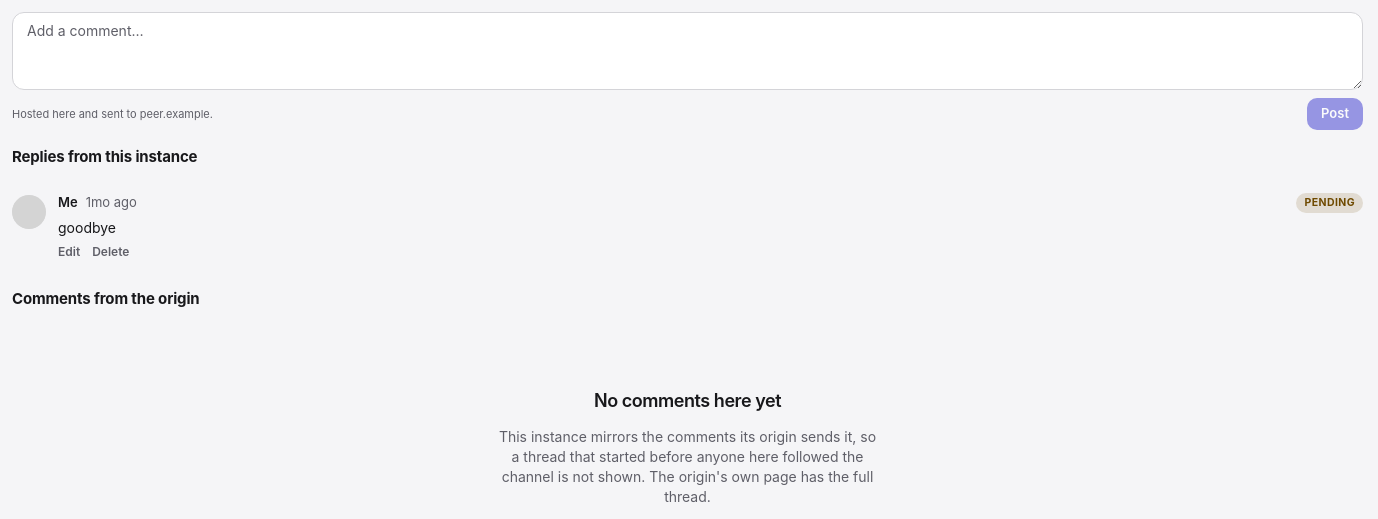
Test: RemoteVideoComments — edit & delete › lets the author delete their own authored comment
This screenshot has width=1378, height=519.
Expected: the text "goodbye" is shown, x1=58 y1=219 x2=116 y2=236
Click the button "Delete".
click(111, 252)  # box x1=92 y1=244 x2=129 y2=260
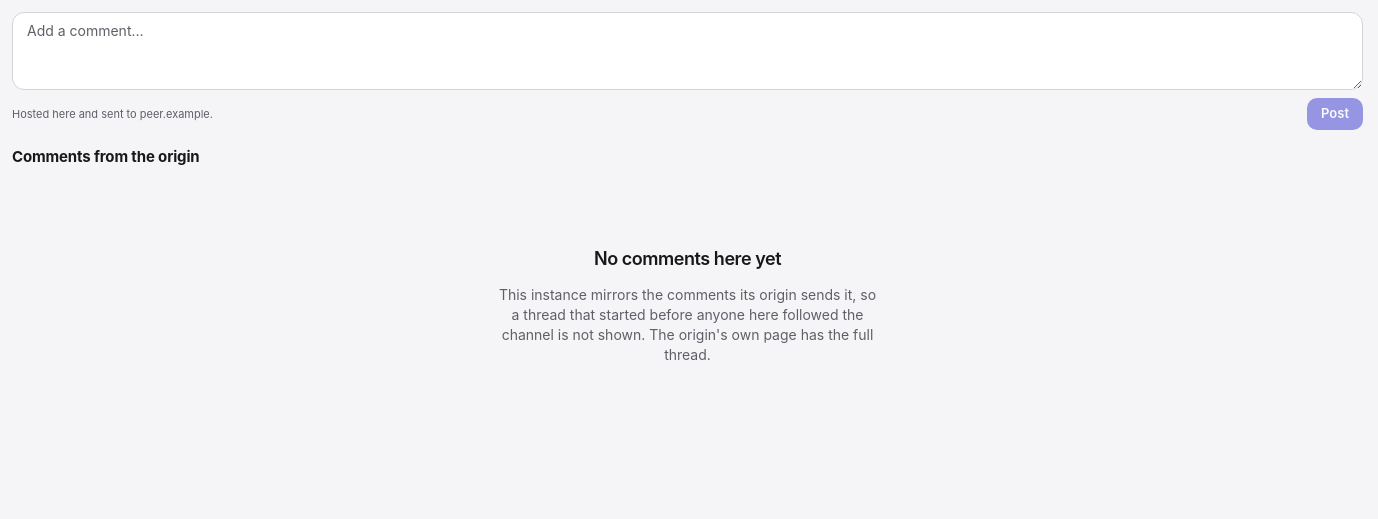
Result: the text "goodbye" is gone
